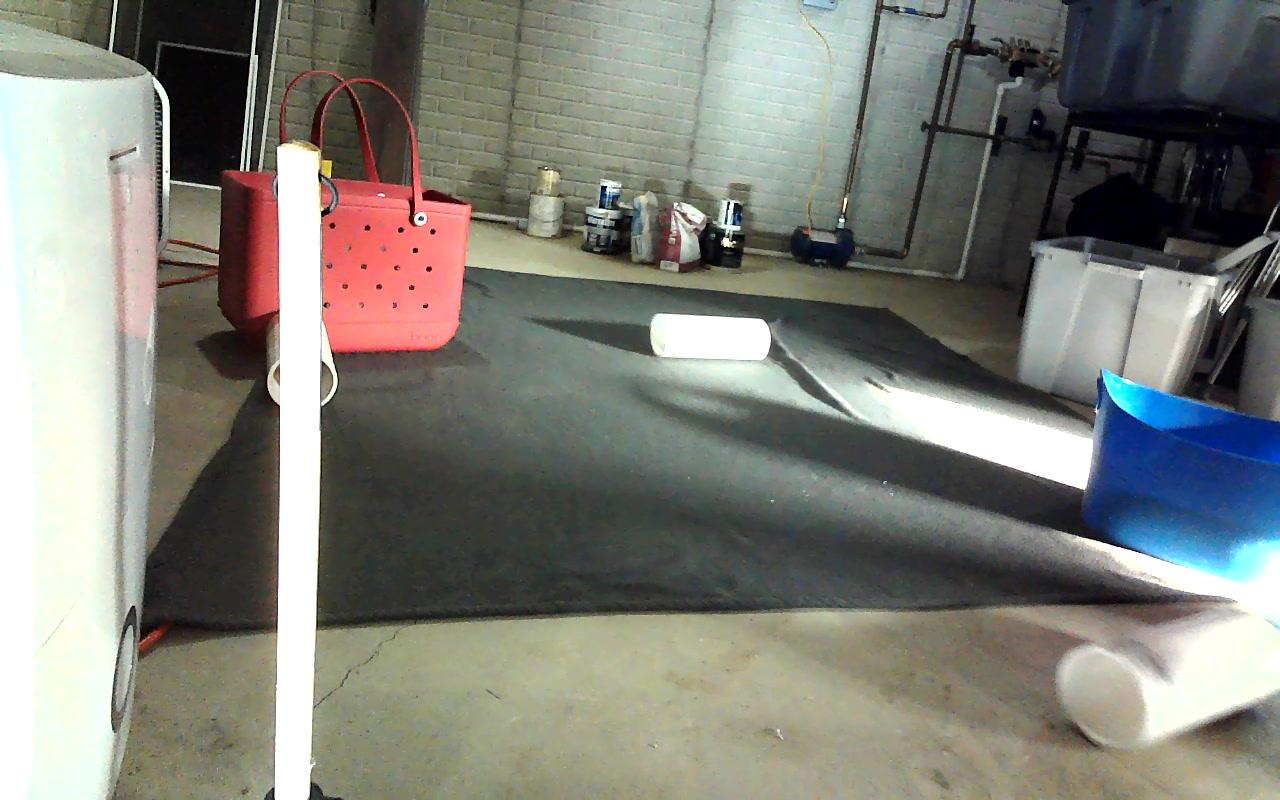coral: (1055, 625, 1278, 748), (266, 310, 336, 407), (650, 313, 770, 360)
